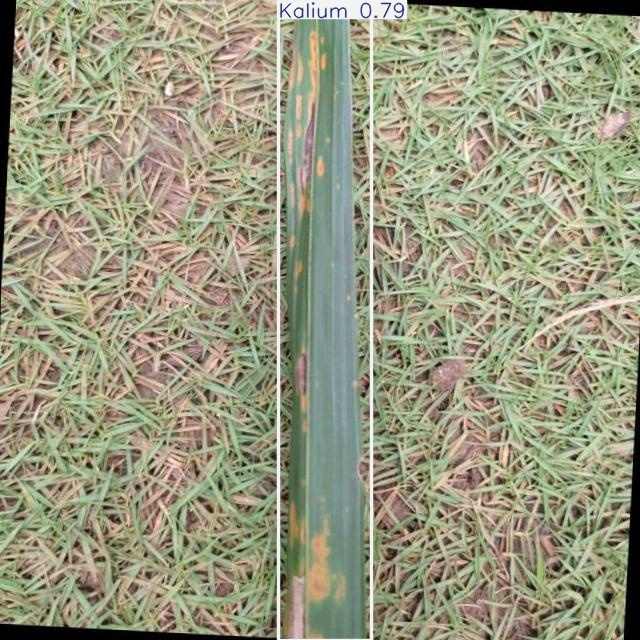Kalium: (278, 1, 372, 640)
